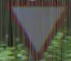Give way: (3, 3, 63, 49)
